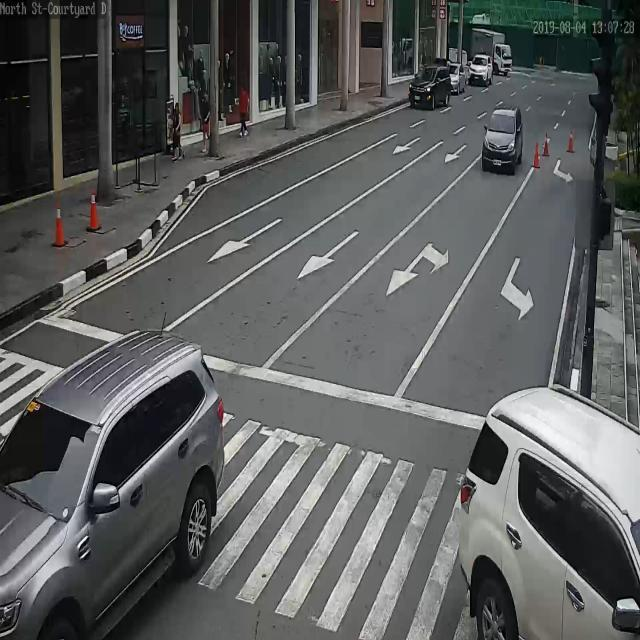car: (0, 328, 223, 640), (459, 384, 640, 640), (481, 102, 523, 173), (409, 61, 450, 111), (467, 53, 491, 88), (446, 60, 466, 94)
motorcycle: (469, 27, 512, 74)
